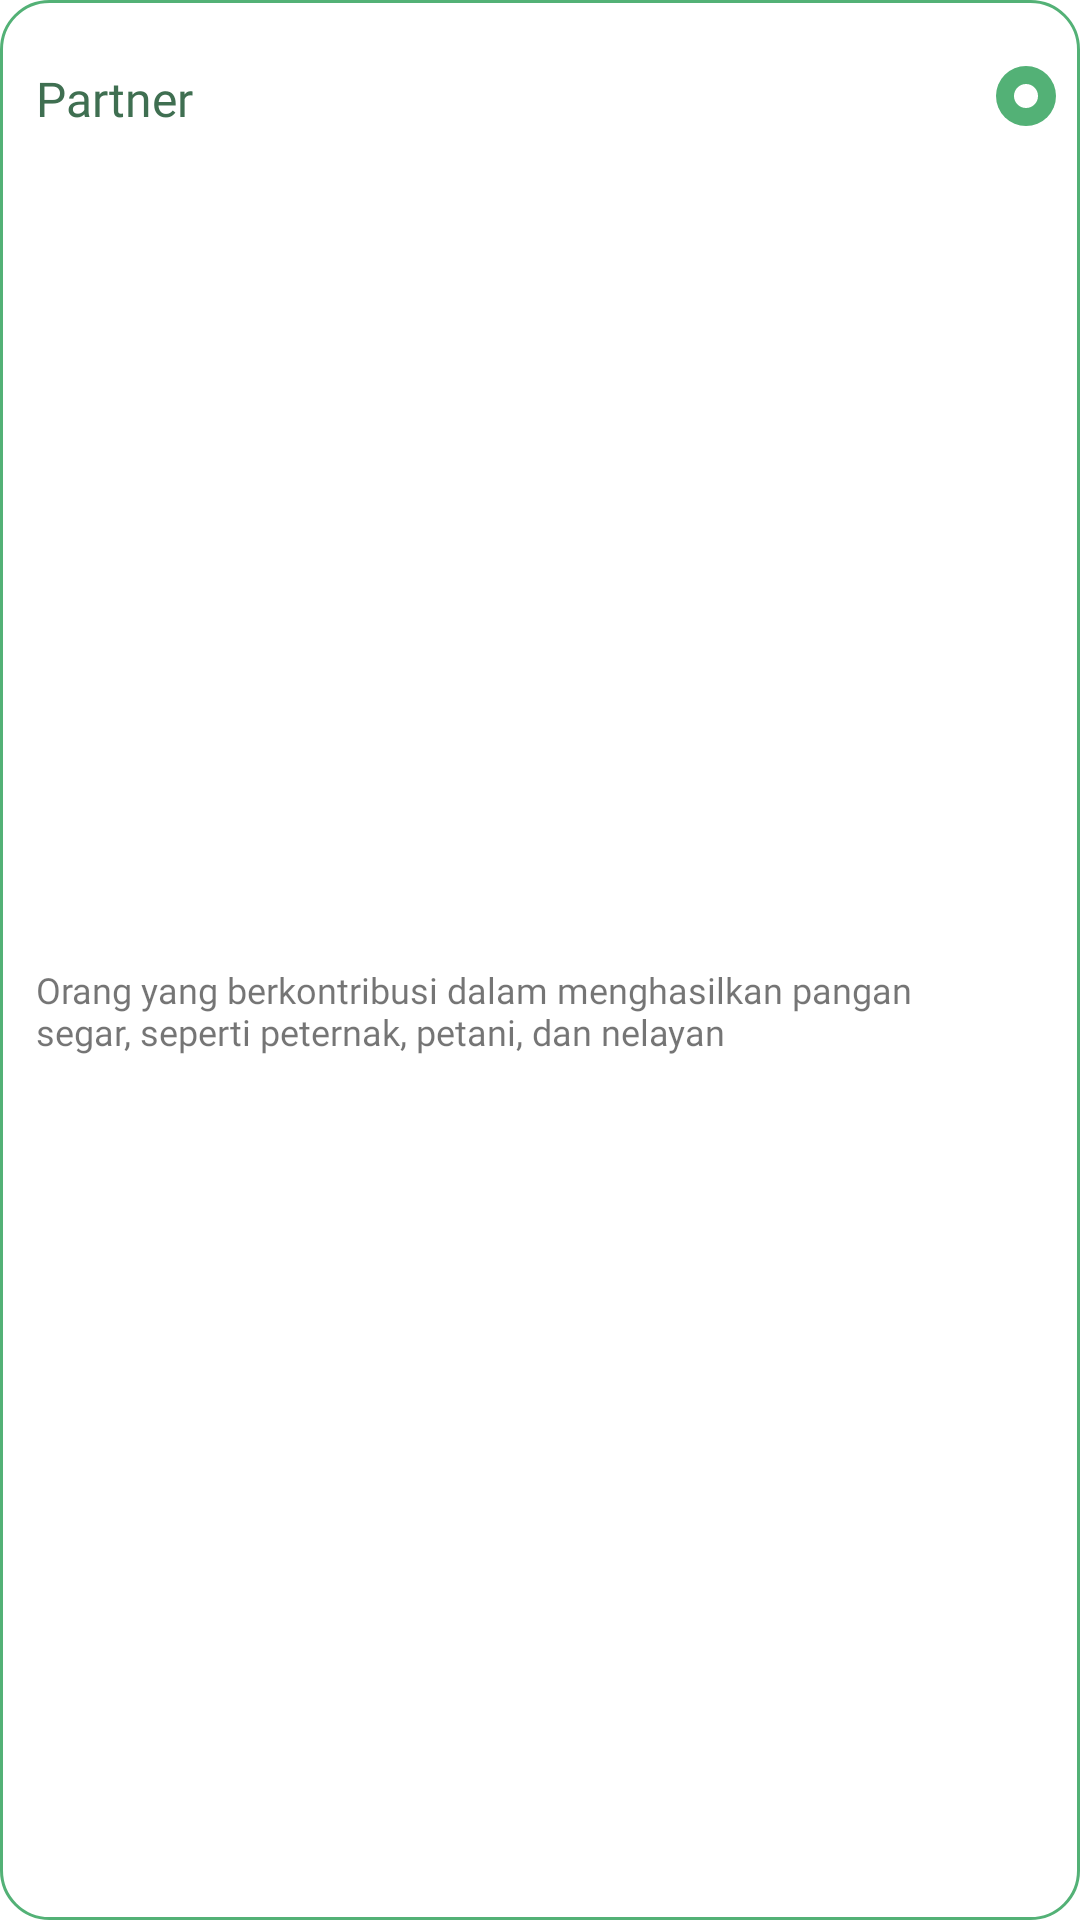

Screen size 1080px×1920px. Icon name, then its box in pixels as rect(x1, y1, x2, y2):
radio roles: rect(996, 66, 1056, 126)
